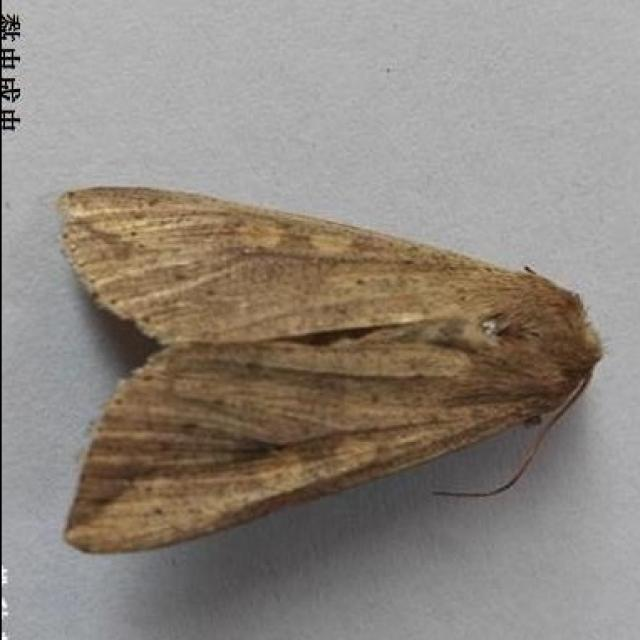army worm: (37, 182, 615, 595)
